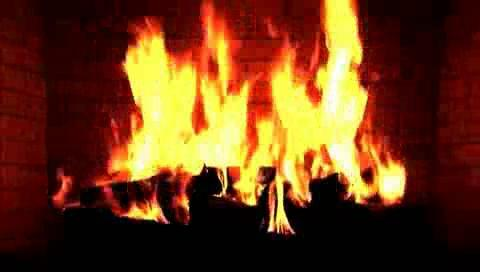fire: (118, 4, 377, 212)
